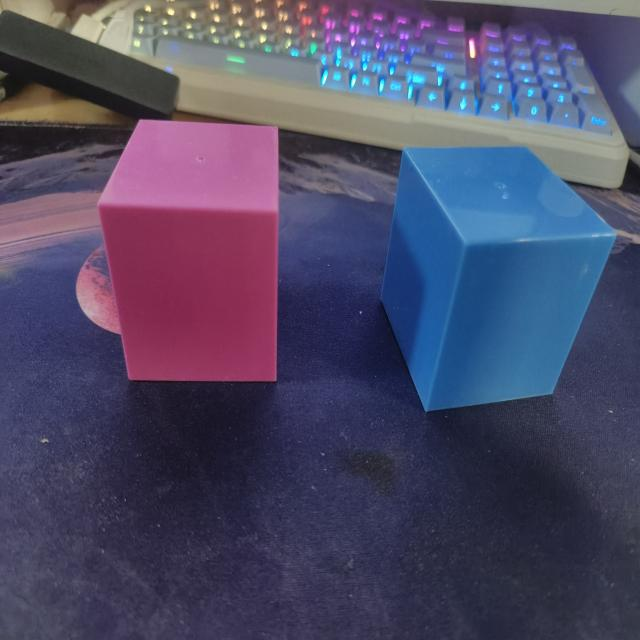blue: (378, 136, 623, 422)
pink: (92, 109, 284, 388)
